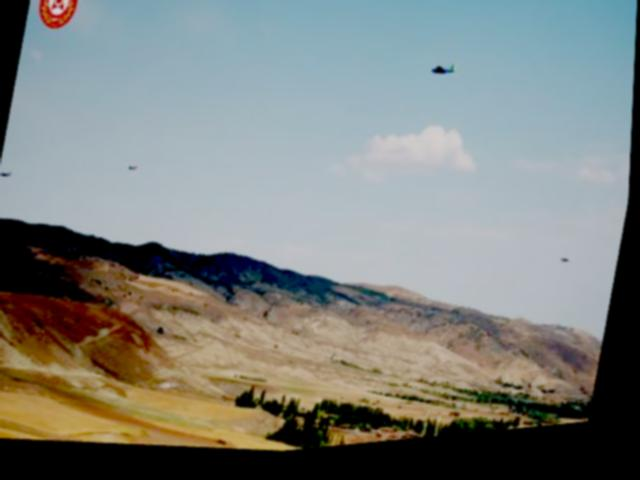uav: (430, 66, 460, 88), (0, 164, 17, 183), (560, 264, 577, 278), (126, 162, 141, 177)
